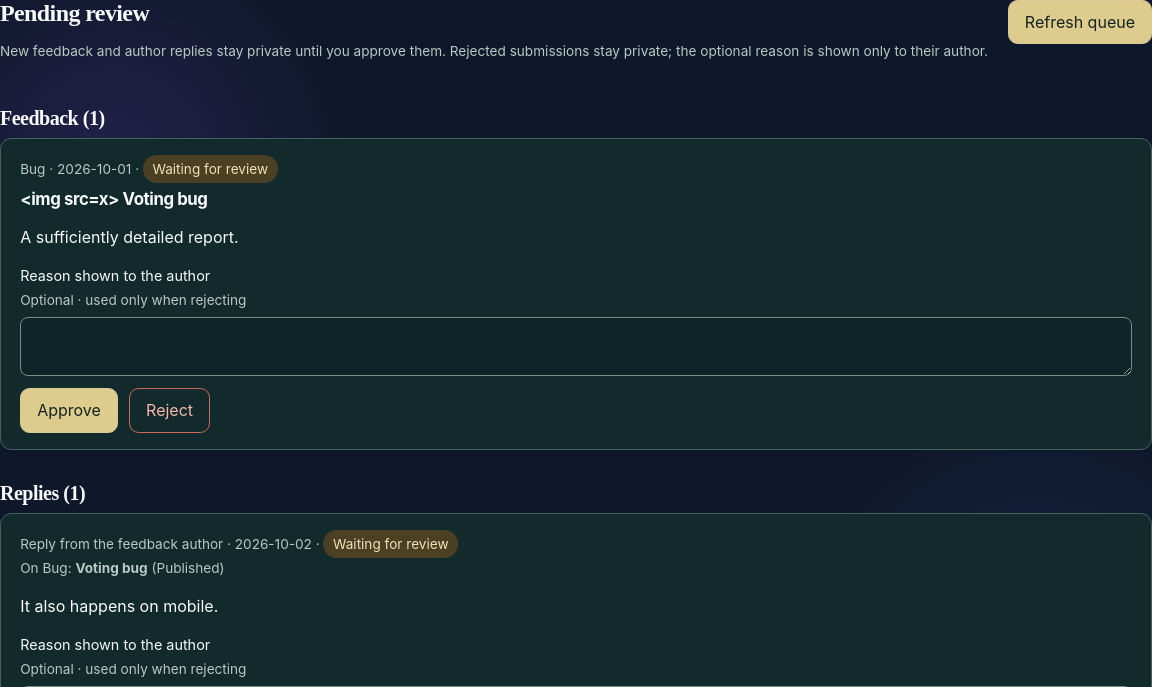
Test: PendingReviewComponent › approves feedback, notifies the parent, and reloads the queue
Click the button "Approve".
click(69, 410)  # box top-left (20, 388), bottom-right (118, 433)
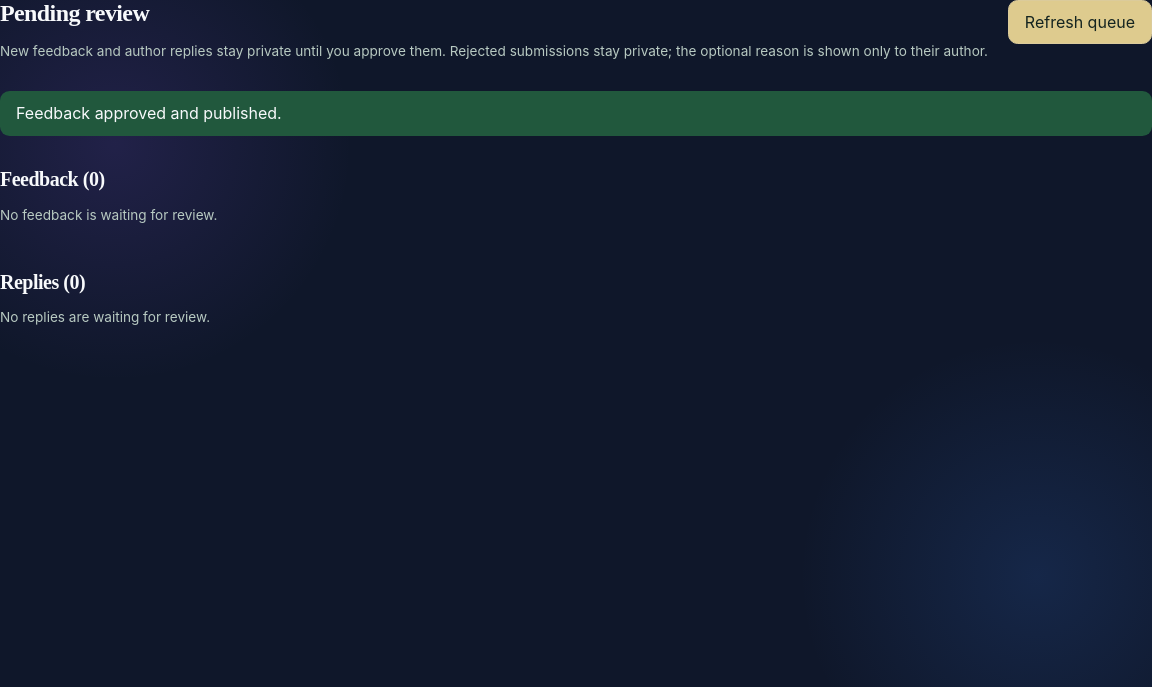
expect the text "Feedback approved and published." is shown: met, box top-left (0, 91), bottom-right (1151, 136)
expect the text "No feedback is waiting for review." is shown: met, box top-left (0, 207), bottom-right (217, 223)
